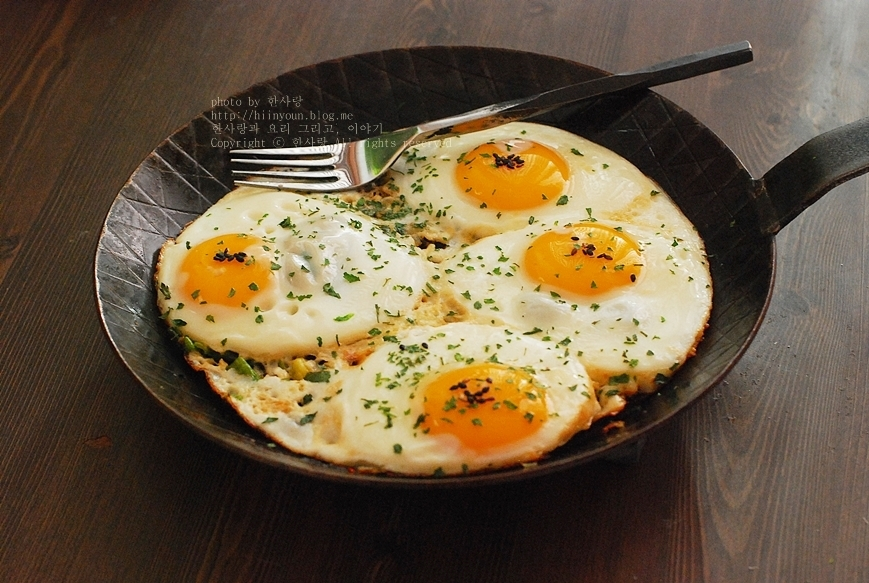gyelanhulai: (166, 108, 709, 454)
